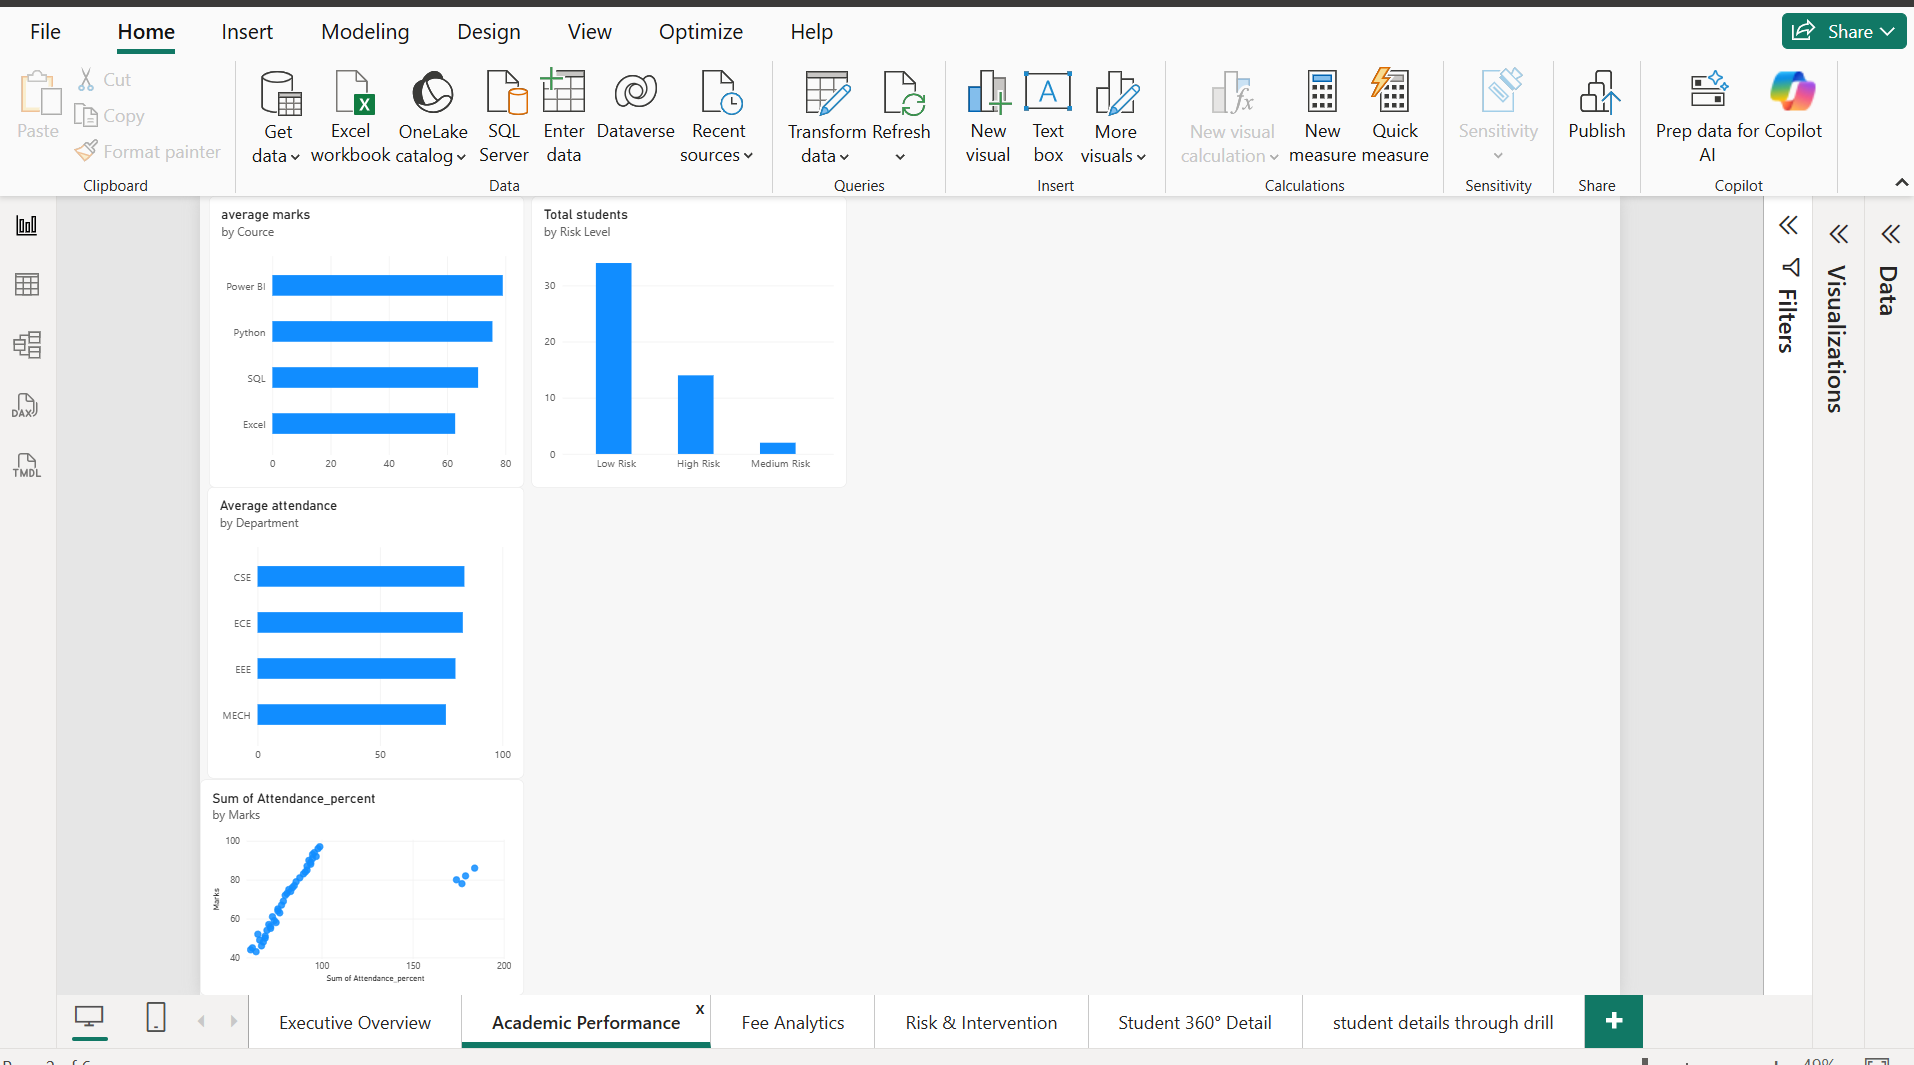

This screenshot's page, from the dashboard's own definition file:
{"tool":"powerbi","page":{"name":"Academic Performance","canvas":[1920,1080],"ordinal":1},"visuals":[{"type":"barChart","fields":{"Category":["Student_performance.Cource"],"Y":["Student_performance.average marks"]},"box":[12,0,426,394],"z":0},{"type":"barChart","fields":{"Category":["Student_performance.Department"],"Y":["Student_performance.Average attendance"]},"box":[10,394,428,394],"z":1000},{"type":"scatterChart","fields":{"X":["Sum(Student_performance.Attendance_percent)"],"Y":["Student_performance.Marks"]},"box":[0,788,438,292],"z":2000},{"type":"columnChart","fields":{"Y":["Student_performance.Total students"],"Category":["Student_performance.Risk Level"]},"box":[448,0,426,394],"z":3000}]}

Visuals, with their boxes on the page's 1920x1080 design canvas (x1, y1, x2, y2). These are canvas units, not pixel positions in the 1914x1065 screenshot, which may show the page scaled, cropped or inside an application window:
barChart - Student_performance.Cource x Student_performance.average marks: 12/0/438/394
barChart - Student_performance.Department x Student_performance.Average attendance: 10/394/438/788
scatterChart - Sum(Student_performance.Attendance_percent) x Student_performance.Marks: 0/788/438/1080
columnChart - Student_performance.Total students x Student_performance.Risk Level: 448/0/874/394
